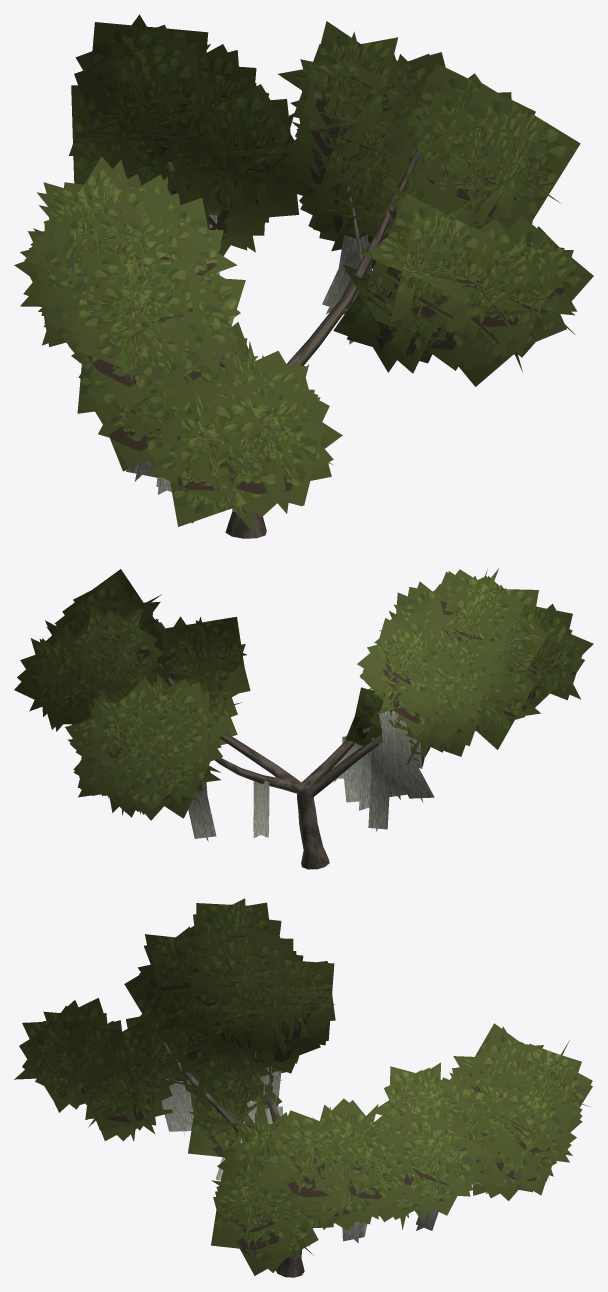
The model's file is veg_live_oak_b.fbx.
3 views of the same model, one above another, from view 1: azimuth 30°, elevation 25°; view 2: azimuth 150°, elevation 25°; view 3: azimuth 270°, elevation 25° (orthographic). The views are drawn at different scales.
Visible parts, largest first — view 1: veg_live_oak_b_LOD0; view 2: veg_live_oak_b_LOD0; view 3: veg_live_oak_b_LOD0.
Boxes of the visible parts, x1,y1,x2,y2 form: veg_live_oak_b_LOD0: [14, 14, 593, 538]; veg_live_oak_b_LOD0: [14, 568, 593, 869]; veg_live_oak_b_LOD0: [14, 898, 592, 1277].
Size of what is drawn, in the model's own units: 12.24 by 8.74 by 14.67.
Materials: 2 (2 with a texture image).
